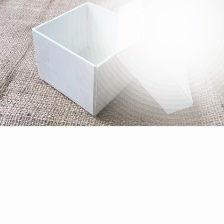book: (28, 0, 148, 118), (111, 0, 198, 117)
